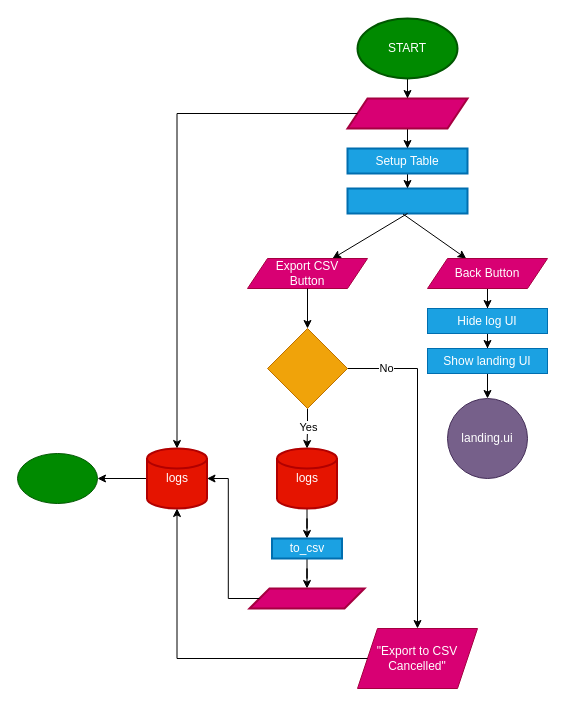
Some shapes in this 565 by 706 pixel diagram are drawn without their labels. Each missing label, with the centre of its shape:
"LogUI opened": [407,113]
Export CSV?: [307,368]
Exported CSV: [306,598]
Show Table: [407,200]
STOP: [57,478]
